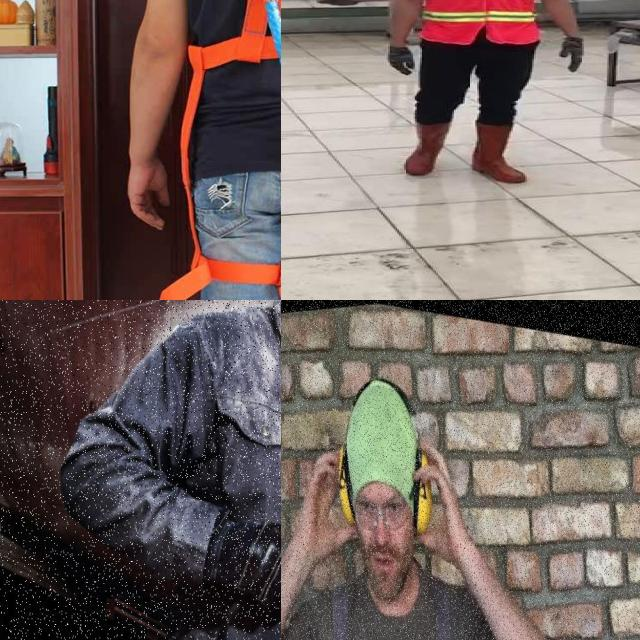Ear-protection: (336, 434, 360, 536), (411, 442, 435, 544)
Harness: (172, 0, 281, 300)
boots: (472, 122, 530, 184), (404, 119, 454, 176)
person: (146, 300, 281, 640), (371, 0, 595, 186)
vest: (418, 0, 541, 43)
